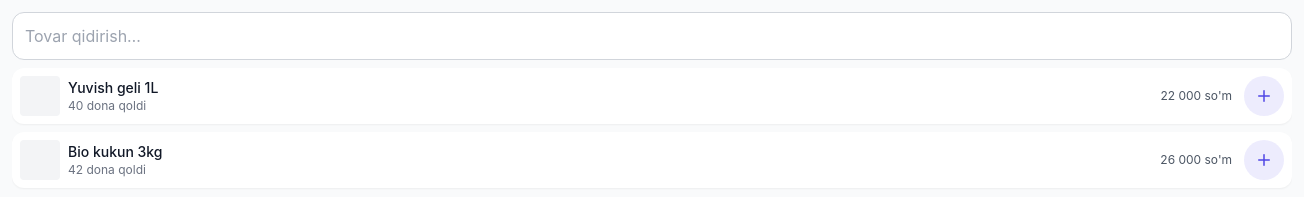
Test: SaleProductList (UX M4) › qidiruv ro‘yxatni filtrlaydi
In the field with placeholder "Tovar qidirish…": (652, 36) [12,12,1292,60], type "bio"
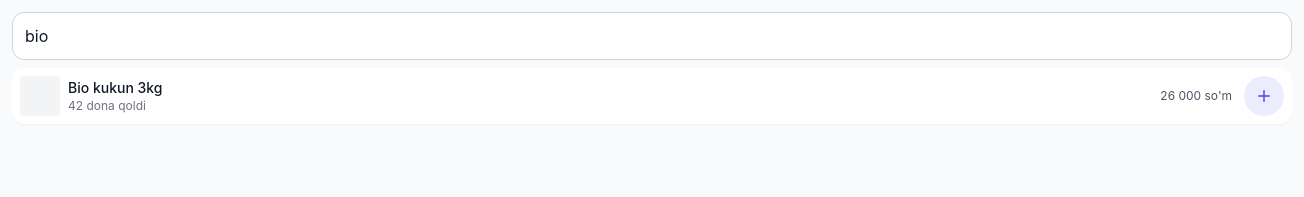
Expected: the text "Bio kukun 3kg" is shown, [68,78,162,98]
Expected: the button "Yuvish geli 1L" is gone
